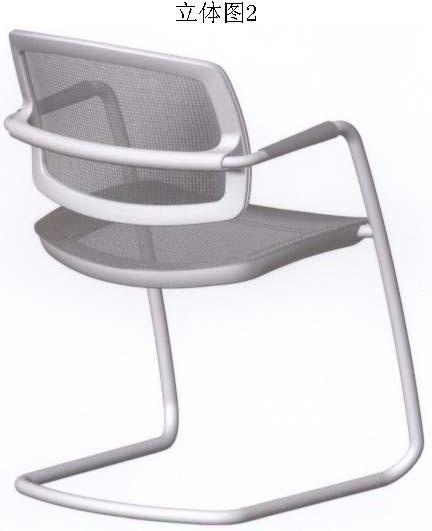obstacle: (5, 30, 422, 524)
